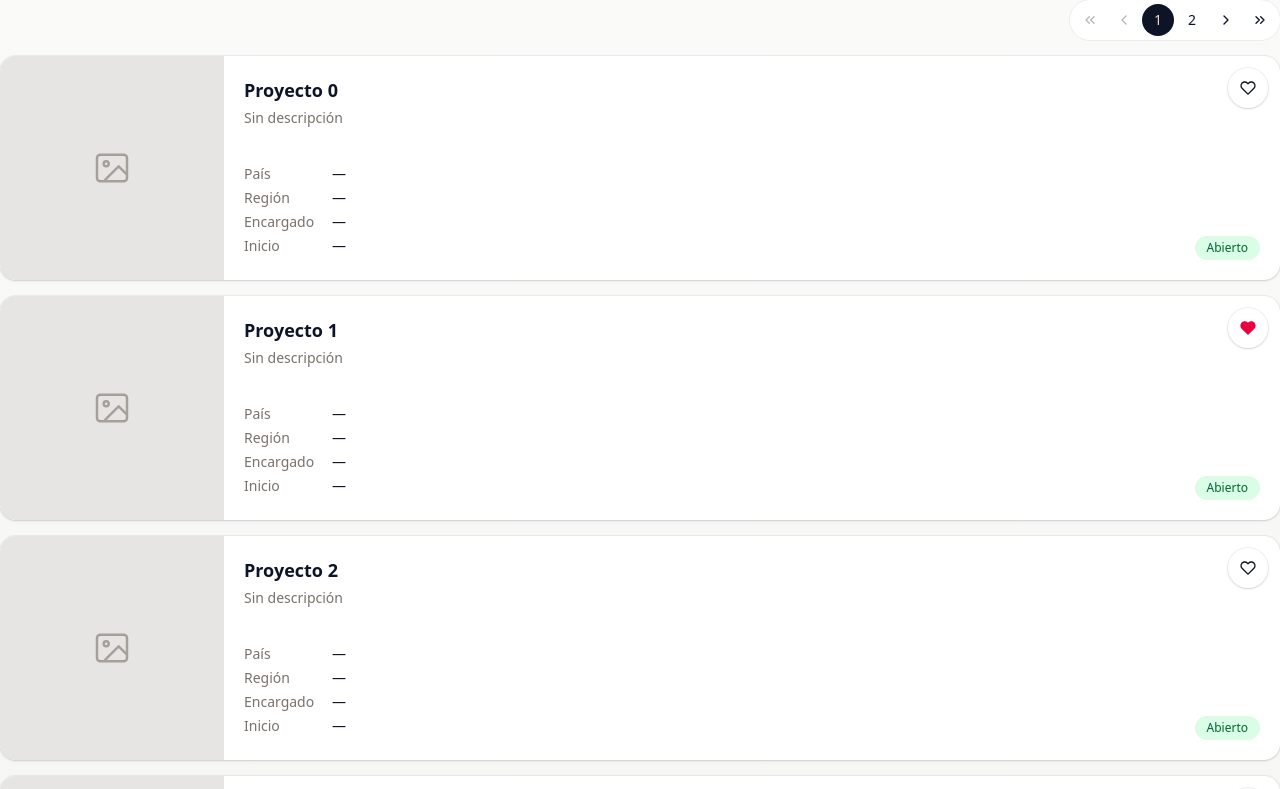
Test: ProjectsSection › pages a long list, four at a time
This screenshot has width=1280, height=789.
Expected: the link "Proyecto 0" is shown, [244,78,338,102]
Click the button named "Página siguiente".
click(1226, 20)  # box [1210,4,1242,36]
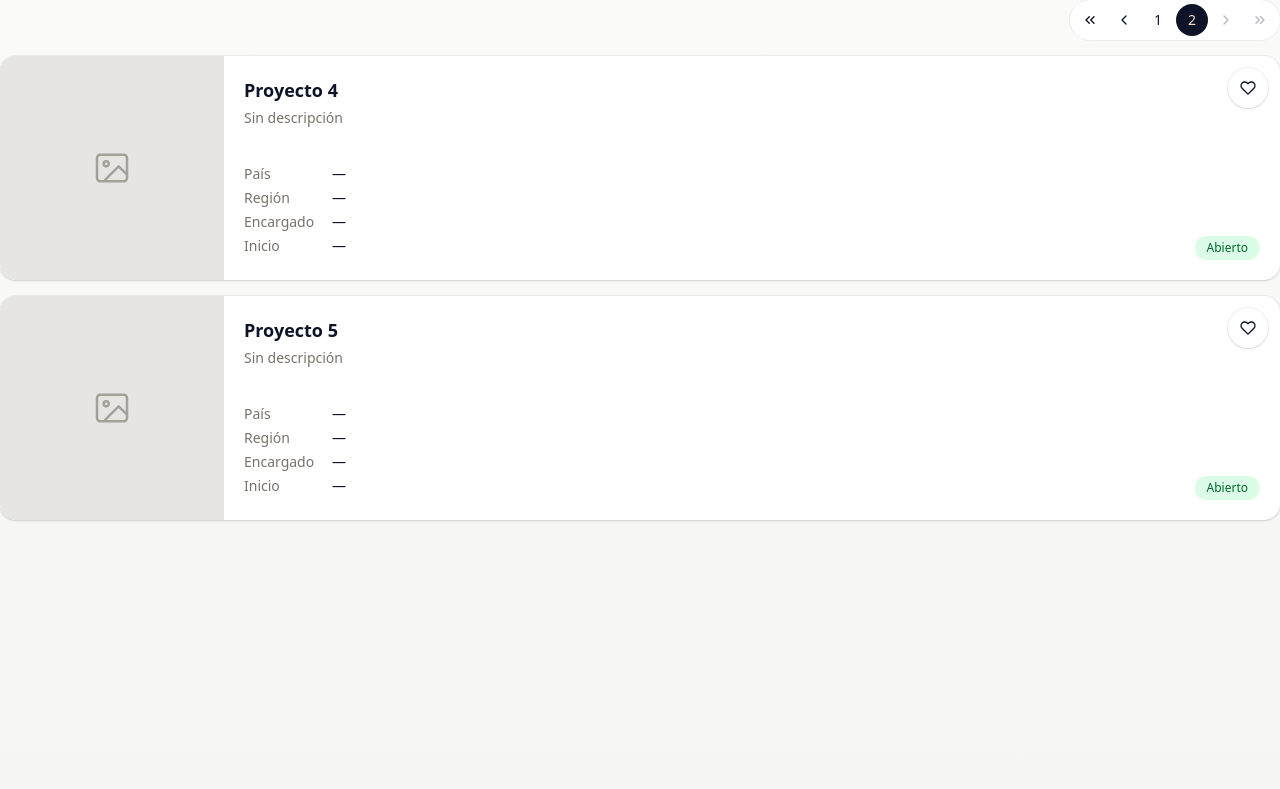
Expected: the link "Proyecto 5" is shown, [244,318,338,342]
